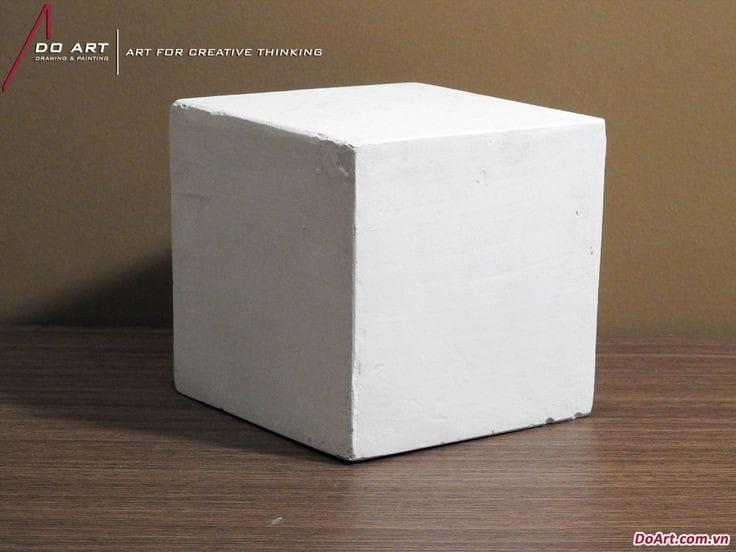cubos: (166, 74, 620, 471)
